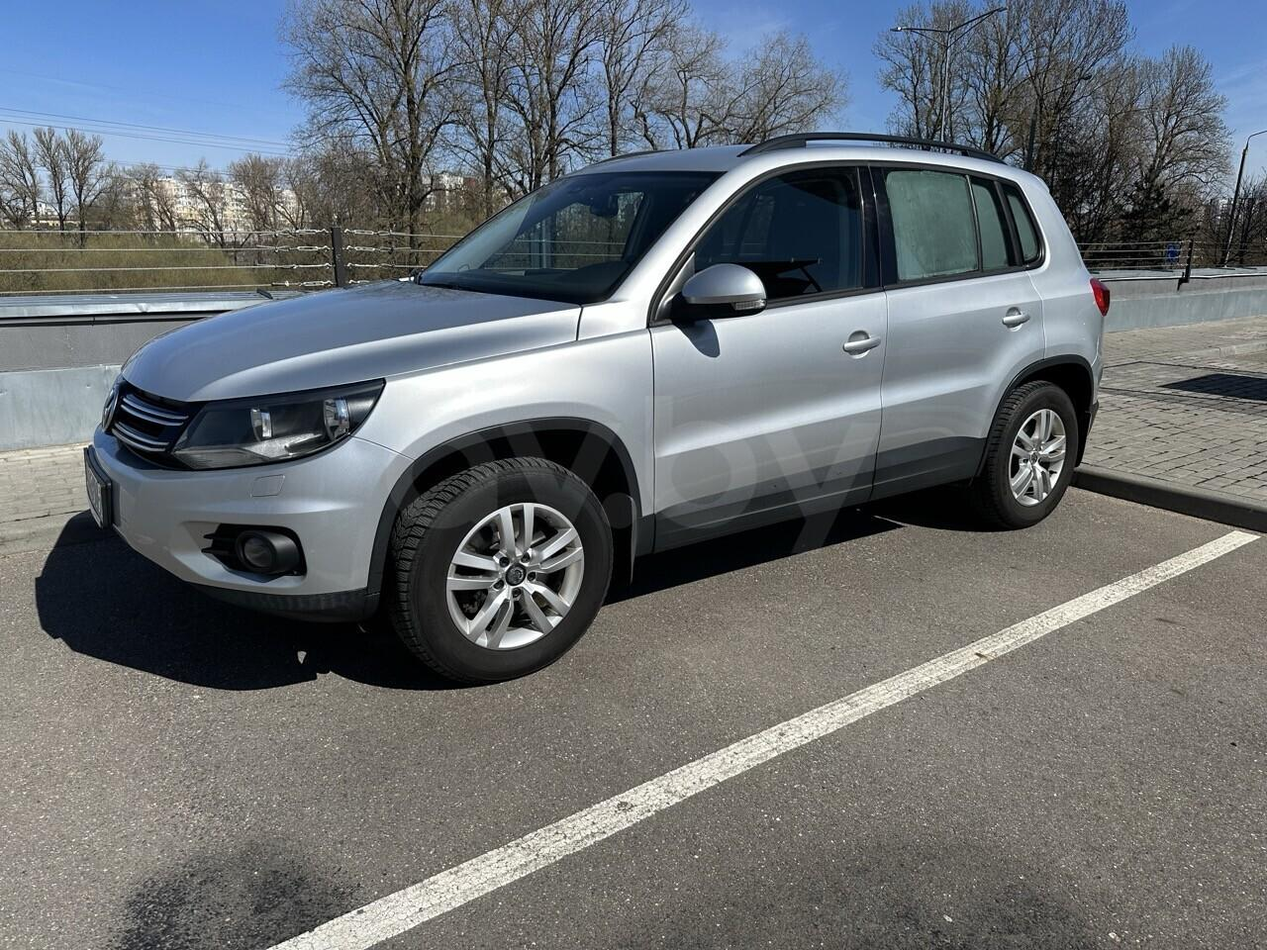Tiguan_2011-2018: (87, 141, 1110, 696)
